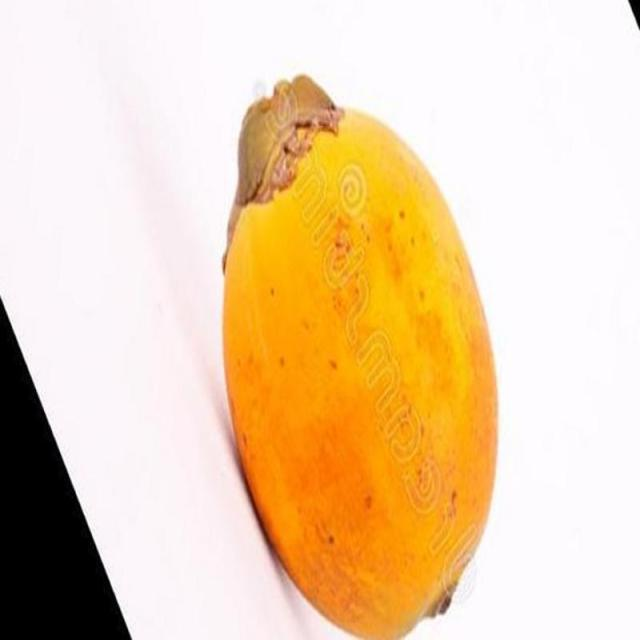good: (222, 79, 500, 639)
